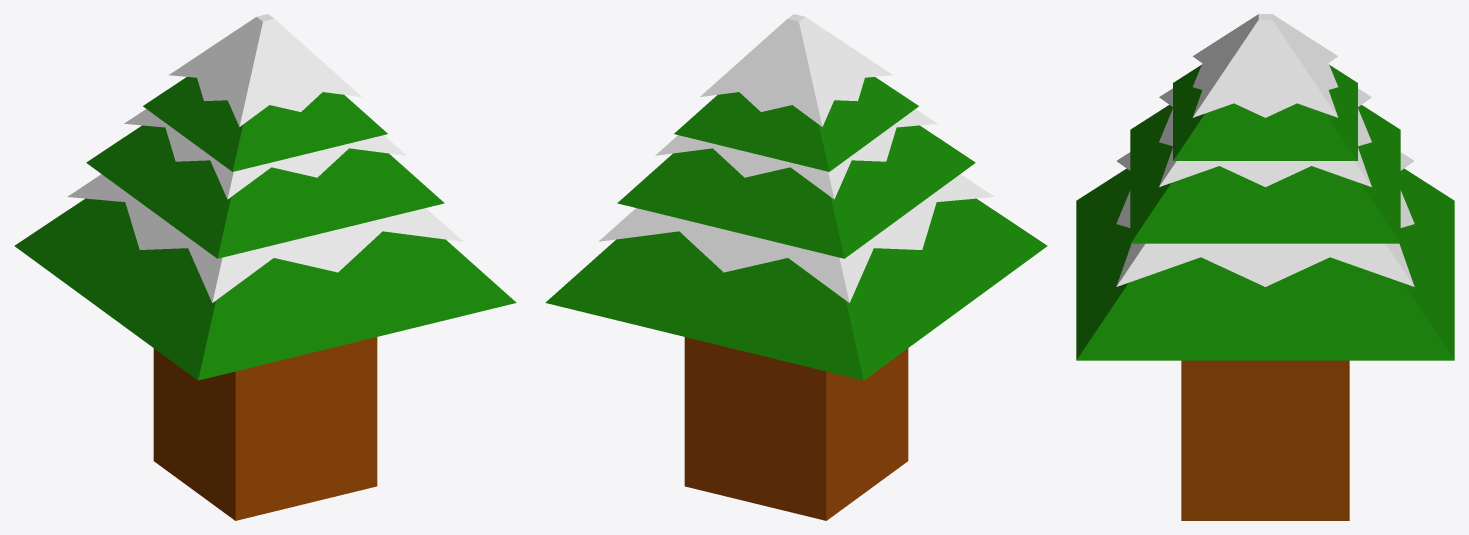
The model's file is tree1.fbx.
3 renders of one model, left to right at view 1: azimuth 30°, elevation 25°; view 2: azimuth 150°, elevation 25°; view 3: azimuth 270°, elevation 25°, orthographic. The views are drawn at different scales.
Parts seen in each view (by area): view 1: Cube; view 2: Cube; view 3: Cube.
Part boxes in pixels (<box>): Cube: <box>14,14,516,520</box>; Cube: <box>545,14,1047,520</box>; Cube: <box>1076,14,1454,520</box>.
Bounding box in the file's own units: 200 × 273 × 200.
